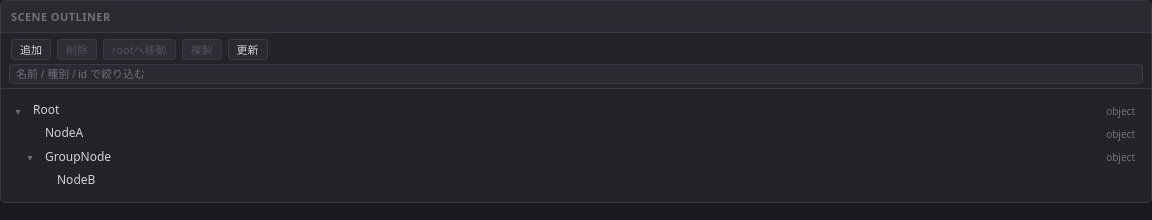
Test: SceneOutlinerPanel — filter input › narrows the tree as the user types and restores it when cleared
Check: the text "NodeA" is shown, box [45,124,83,141]
Type "NodeB" into the search field named "シーンを絞り込む" at (576, 74), box [9,64,1143,84]
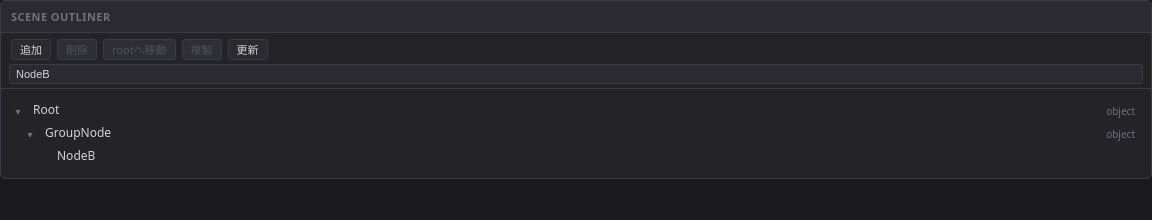
Check: the text "NodeB" is shown, box [57,147,95,164]
Check: the button "NodeA" is gone
Clear the search field named "シーンを絞り込む" at (576, 74), box [9,64,1143,84]
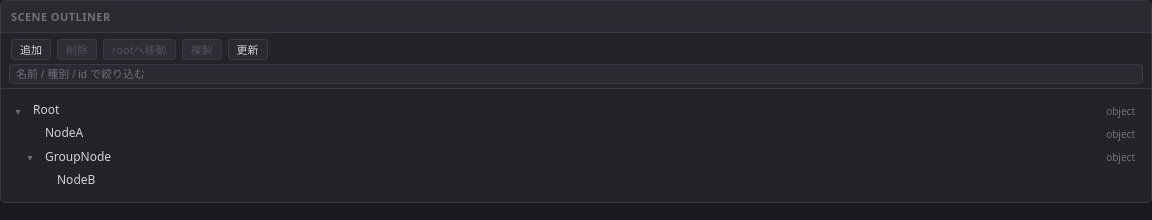
Check: the text "NodeA" is shown, box [45,124,83,141]
